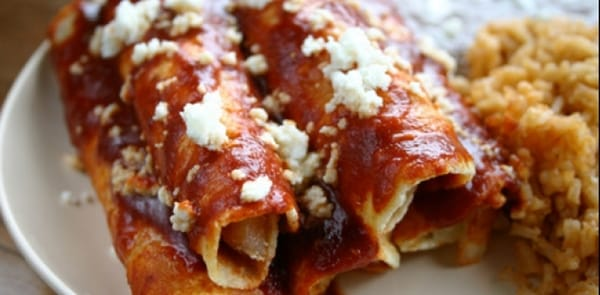sandwich: (41, 0, 590, 287)
